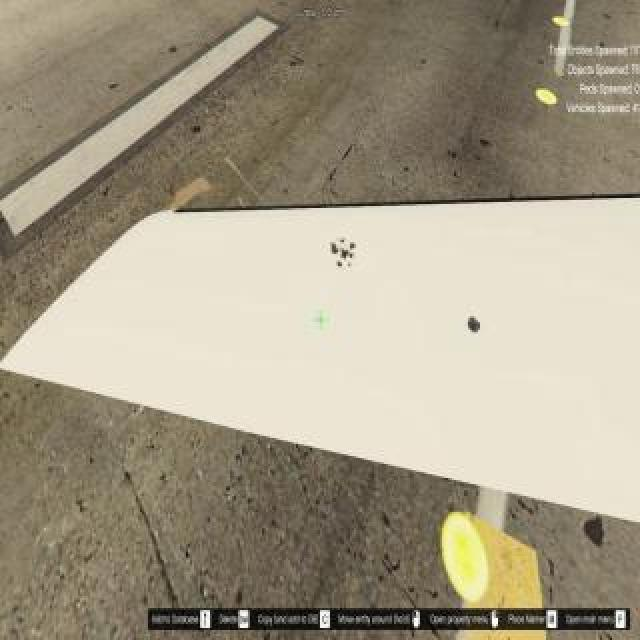crack: (331, 234, 359, 272), (468, 315, 484, 337)
